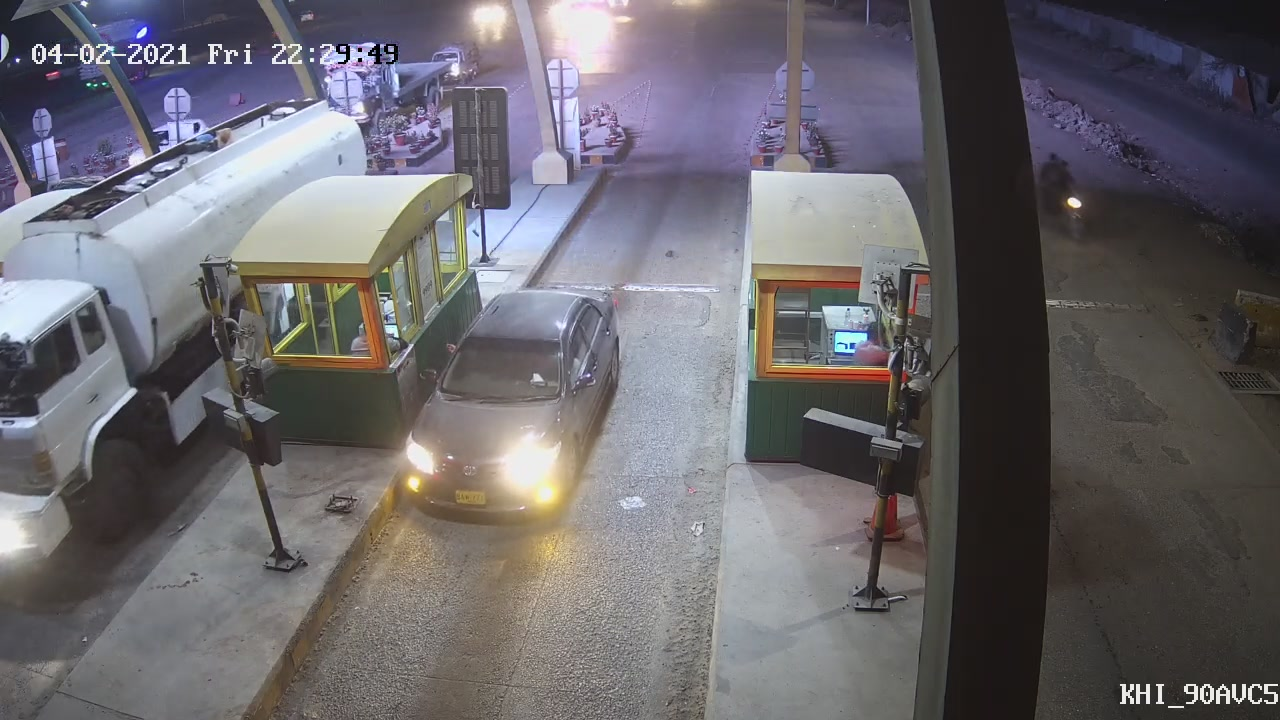F1: (404, 280, 627, 524)
